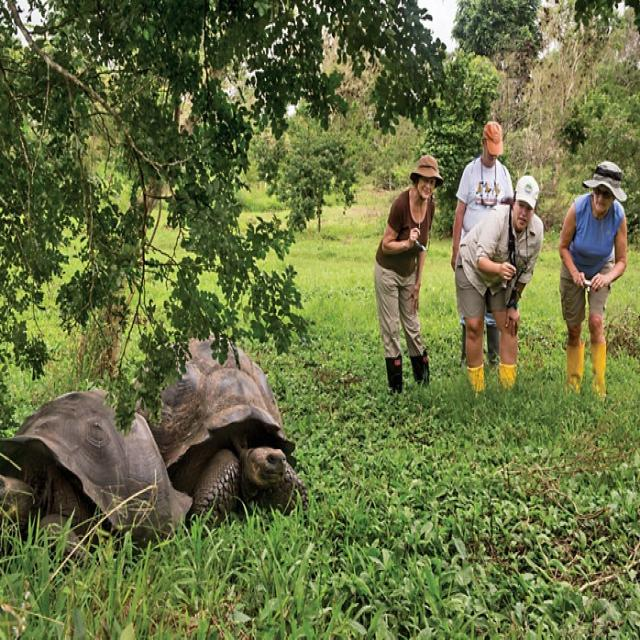body: (555, 156, 631, 448), (453, 172, 546, 401), (373, 153, 445, 394), (449, 118, 516, 370)
